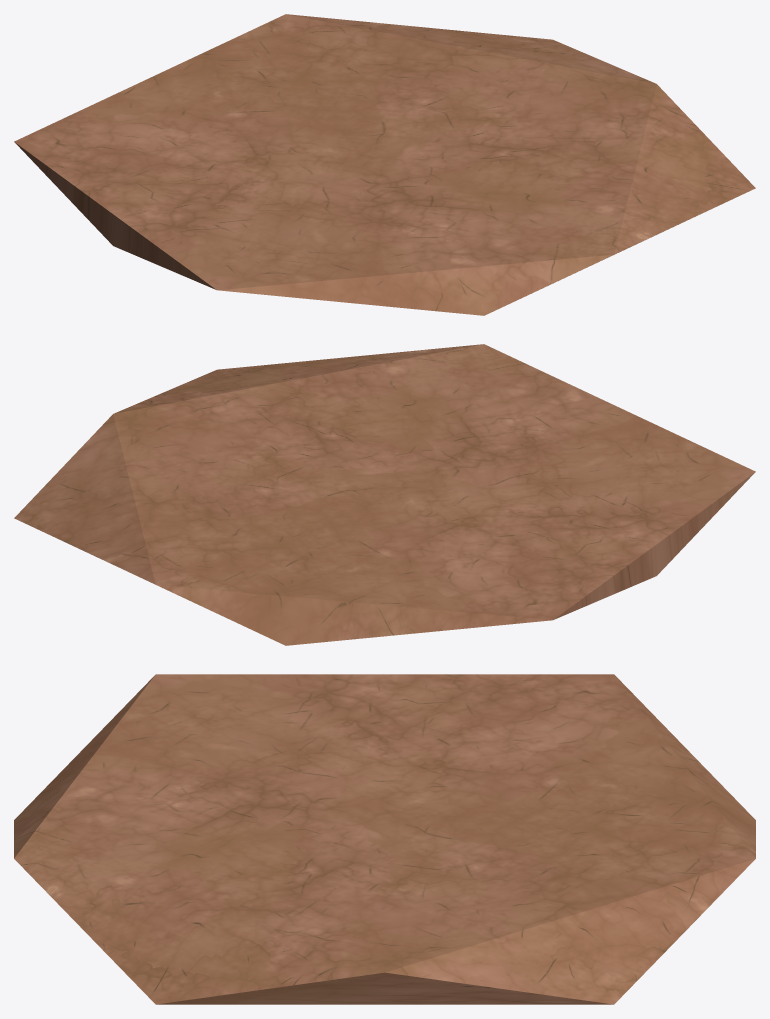
File: pressurestone.fbx
The picture shows the model from 3 angles, top to bottom: view 1: azimuth 30°, elevation 25°; view 2: azimuth 150°, elevation 25°; view 3: azimuth 270°, elevation 25°; orthographic projection. The views are drawn at different scales.
Parts seen in each view (by area): view 1: Icosphere.001; view 2: Icosphere.001; view 3: Icosphere.001.
Part boxes in pixels (x1,y1,x2,y2): Icosphere.001: (14, 14, 755, 315); Icosphere.001: (14, 344, 755, 645); Icosphere.001: (14, 674, 755, 1004).
Bounding box in the file's own units: 613 × 31.84 × 641.
1 material, 1 textured.
